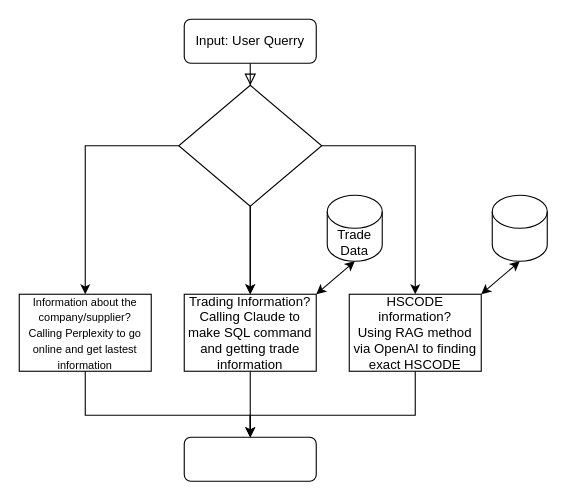
Image size: 567x501. Some labels were removed from this diagram. The shapes that lost their labels are listed below. From the top down, each one's box as (x1, y1, x2, y2) in pixels, then its label:
(178, 84, 322, 206): Which kind of Info? Call OpenAI to handle and designated flow
(491, 194, 547, 261): HSCODE Vector
(183, 436, 316, 481): Output
